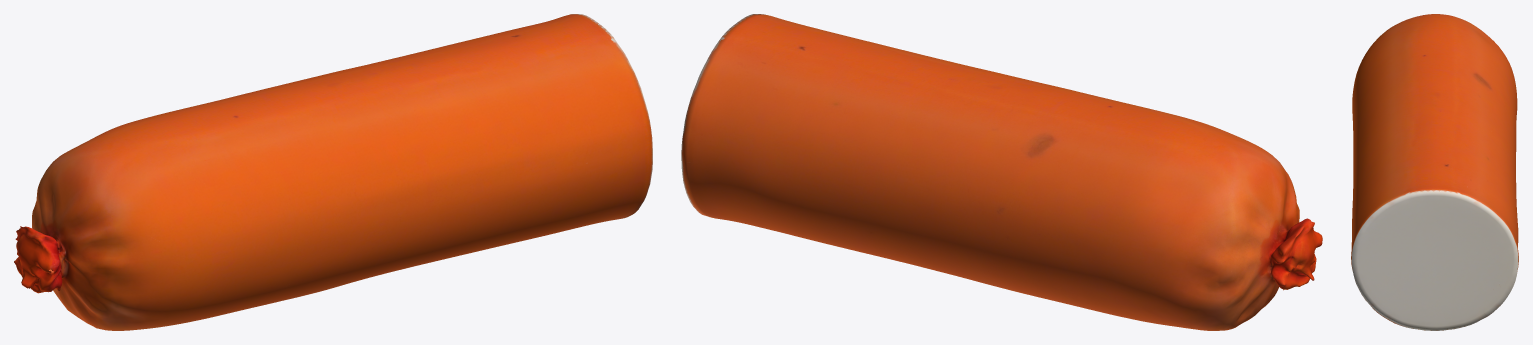
File: SausageLog.glb
The picture shows the model from 3 angles, left to right: view 1: azimuth 30°, elevation 25°; view 2: azimuth 150°, elevation 25°; view 3: azimuth 270°, elevation 25°; orthographic projection. The views are drawn at different scales.
Visible parts, largest first — view 1: Mesh_0; view 2: Mesh_0; view 3: Mesh_0.
Boxes of the visible parts, x1=… form: Mesh_0: x1=14, y1=14, x2=652, y2=330; Mesh_0: x1=681, y1=14, x2=1322, y2=330; Mesh_0: x1=1351, y1=14, x2=1518, y2=330.
Size of the model in its own units: 2 by 0.6218 by 0.6696.
Materials: 1 (1 with a texture image).
